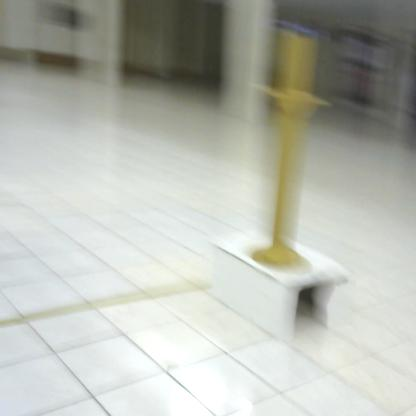pole: (249, 25, 332, 279)
